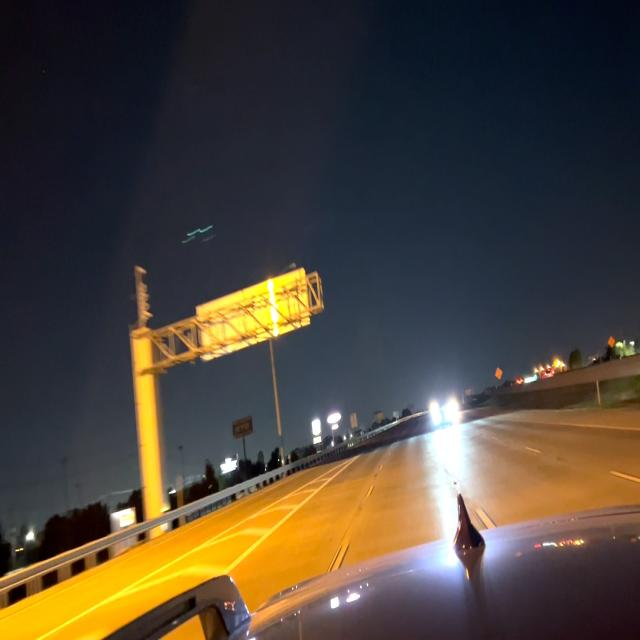back-of-sign: (199, 268, 311, 366)
